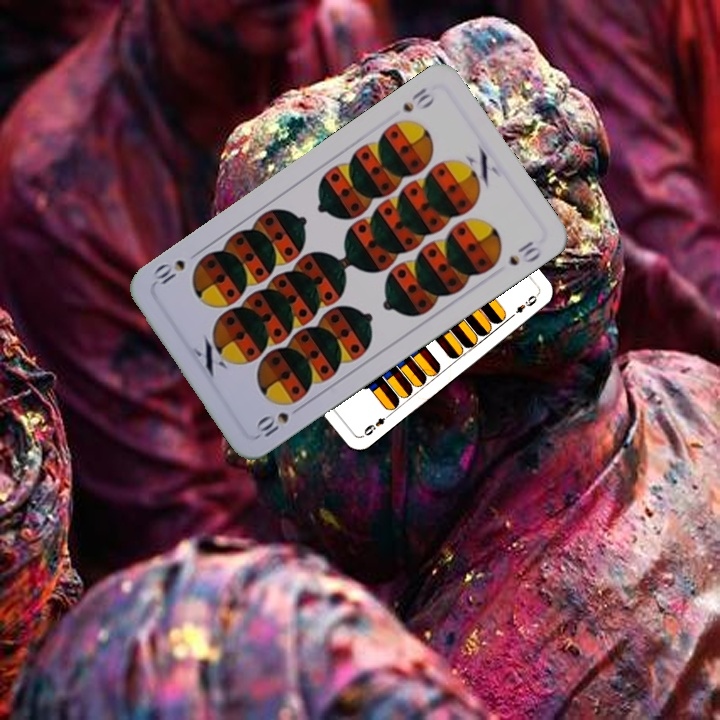E9: (359, 409, 393, 439)
S10: (251, 401, 306, 440), (398, 83, 438, 115)
